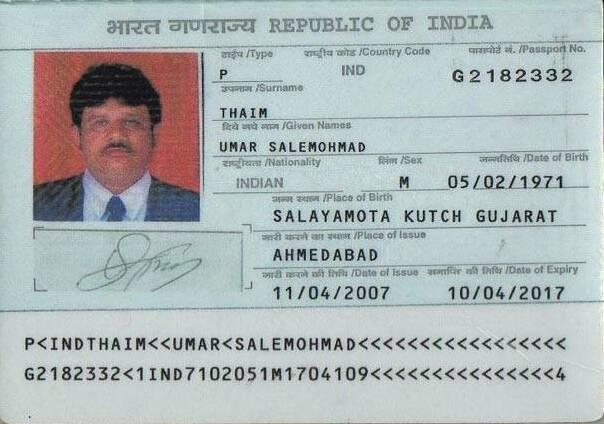DOB: (440, 170, 575, 198)
Surname: (218, 99, 309, 125)
country_code: (330, 55, 386, 85)
date_of_expiry: (444, 277, 580, 310)
date_of_issue: (268, 279, 402, 317)
details: (13, 329, 585, 400)
name: (210, 129, 405, 160)
nationality: (228, 165, 330, 193)
passport_no: (447, 63, 593, 99)
photo: (38, 52, 196, 222)
place_of_birth: (262, 200, 566, 230)
place_of_issue: (266, 243, 396, 270)
sex: (378, 171, 437, 196)
sign: (44, 230, 228, 299)
type: (207, 61, 258, 85)
